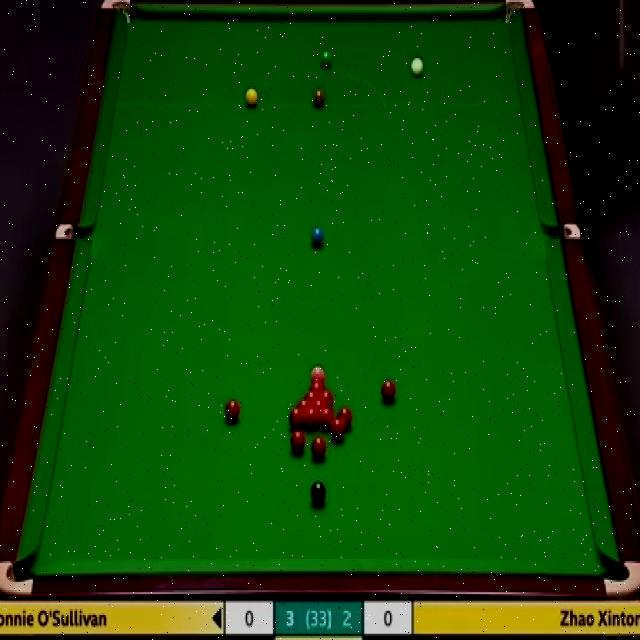black-ball: (311, 480, 327, 507)
blue-ball: (310, 226, 324, 246)
brown-ball: (312, 89, 326, 108)
green-ball: (318, 48, 336, 74)
pink-ball: (310, 363, 325, 377)
red-ball: (223, 399, 241, 425), (290, 429, 307, 454), (311, 436, 326, 460), (337, 406, 352, 430), (381, 380, 396, 404), (288, 406, 304, 428), (319, 407, 334, 430), (330, 419, 344, 441), (304, 406, 318, 428), (320, 388, 334, 405), (307, 378, 325, 388), (311, 398, 327, 407), (303, 389, 319, 398), (296, 398, 311, 407)
white-ball: (410, 54, 424, 80)
yellow-ball: (244, 88, 258, 107)
